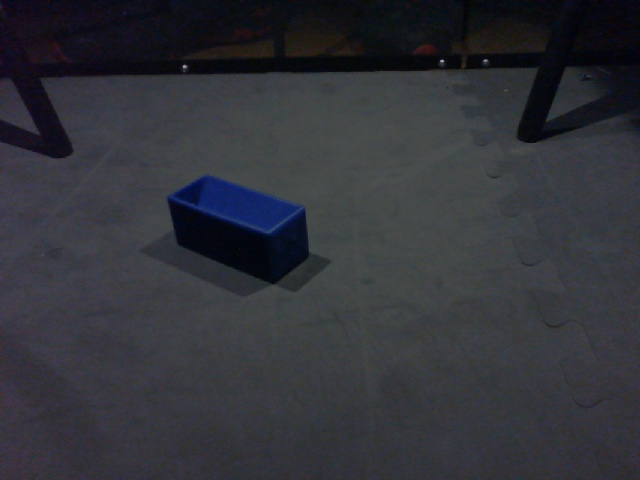BlueSample: (167, 170, 315, 284)
